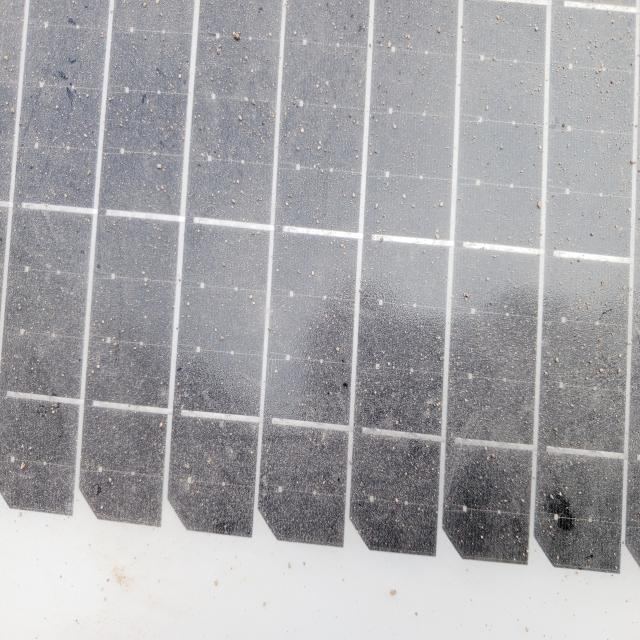Surface Contaminant: (4, 4, 639, 583)
